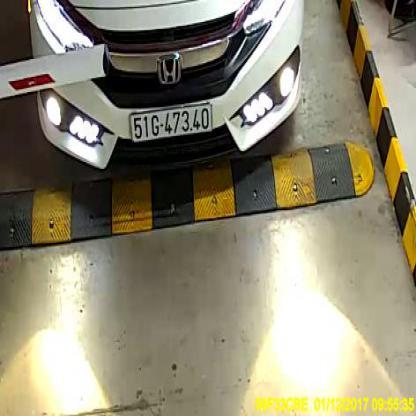biensoxe: (131, 98, 213, 142)
